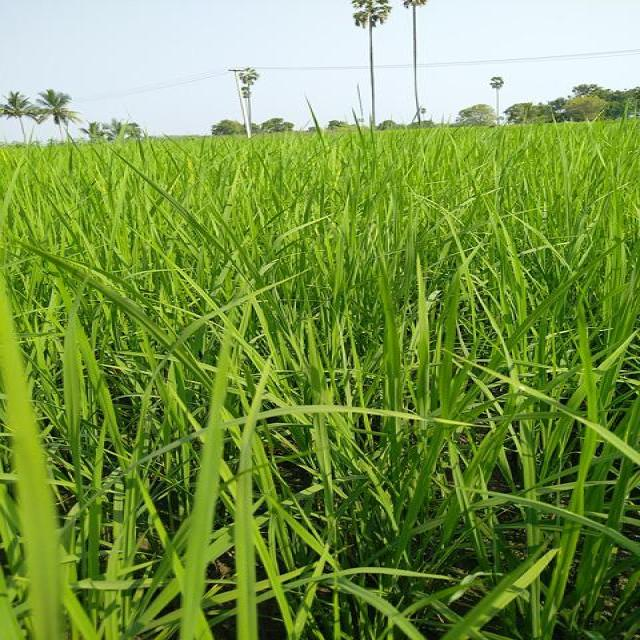Rice: (0, 299, 60, 640), (177, 330, 241, 637), (228, 355, 271, 640), (300, 370, 346, 632), (546, 432, 600, 640), (366, 254, 407, 471), (54, 329, 94, 503), (430, 257, 469, 434), (517, 420, 548, 640), (408, 255, 432, 440), (572, 333, 606, 435), (78, 502, 104, 581)
